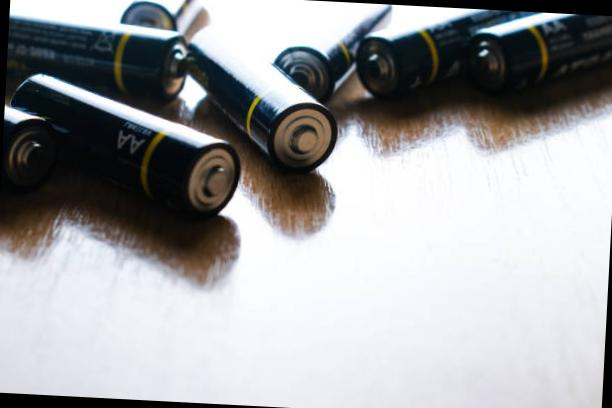battery: (4, 58, 250, 239)
